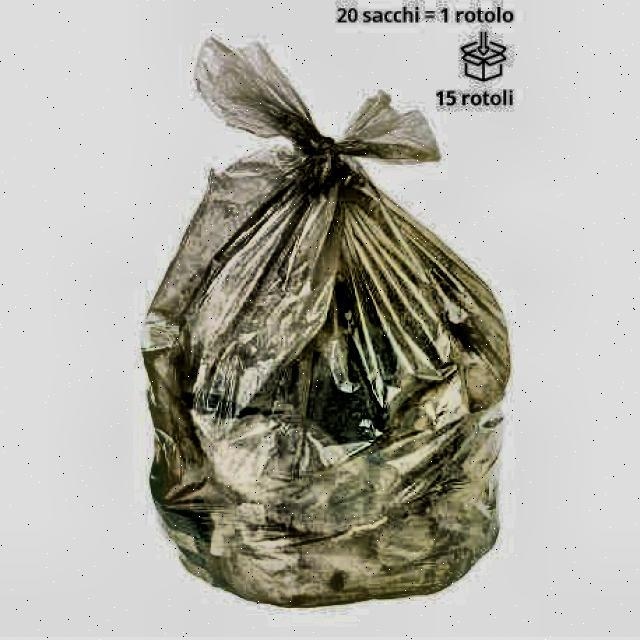Trashbag: (126, 45, 515, 625)
